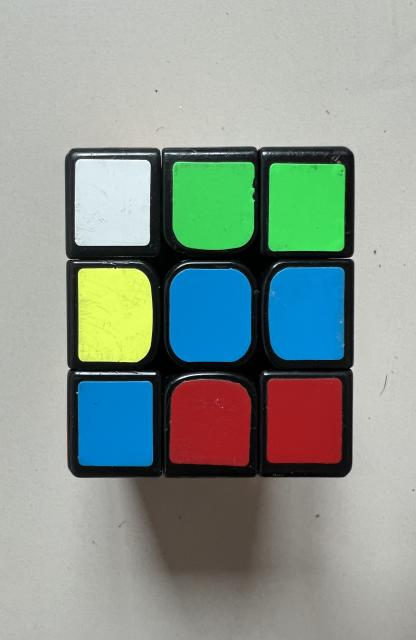Blue: (169, 269, 251, 362), (269, 268, 344, 360), (78, 381, 153, 466)
Green: (172, 161, 255, 250), (269, 164, 346, 251)
Red: (170, 379, 251, 466), (266, 379, 342, 464)
White: (75, 159, 151, 246)
Yellow: (78, 268, 153, 362)
